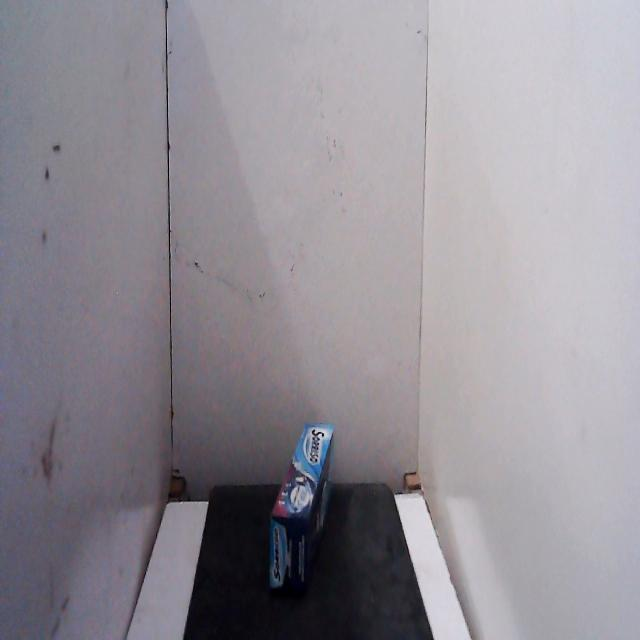papel: (265, 411, 339, 606)
